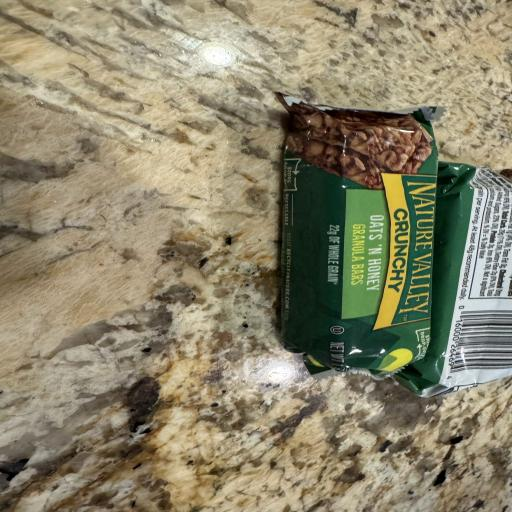granola: (278, 94, 437, 371), (396, 163, 511, 396)
